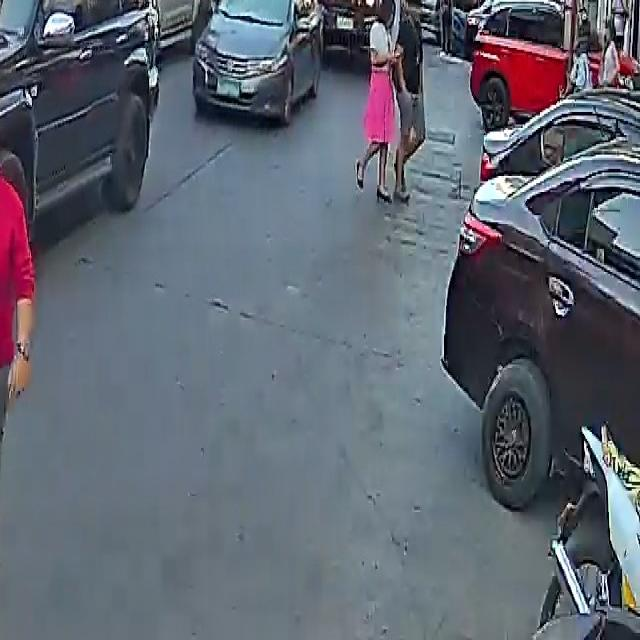car: (446, 89, 640, 527), (0, 0, 171, 236), (191, 0, 326, 126), (466, 0, 577, 124), (318, 0, 390, 64), (410, 0, 493, 50)
